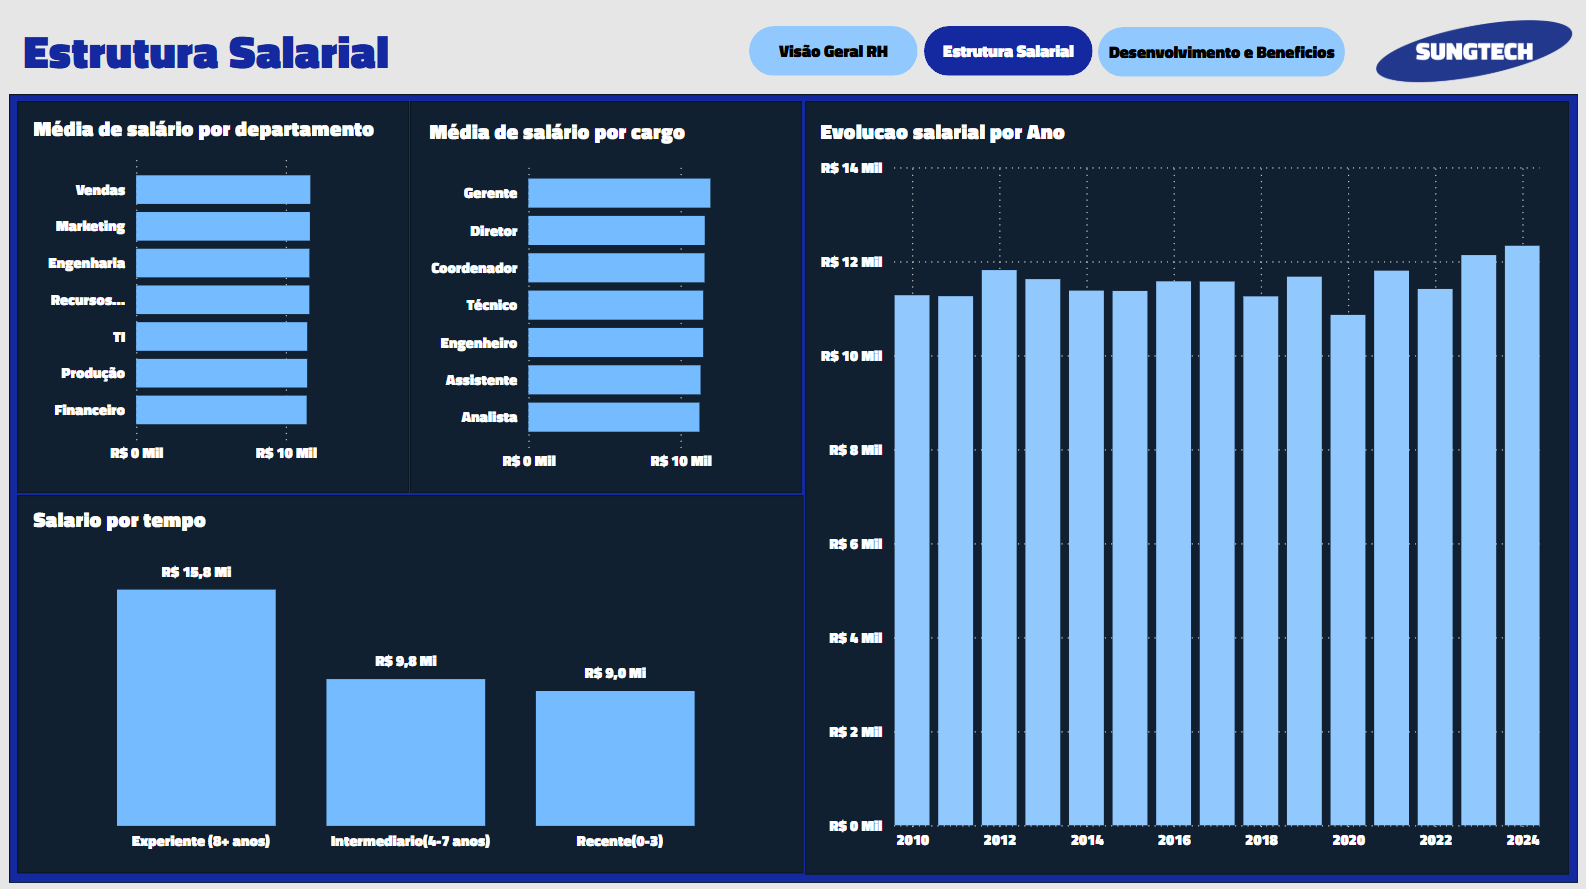

Layout of this report page (visuals, bound fields, positions):
{"tool":"powerbi","page":{"name":"Estrutura Salarial","canvas":[1280,720],"ordinal":1},"visuals":[{"type":"group","id":"g1","title":"Fundo","box":[7.3,8.2,1265.5,704.5],"z":0},{"type":"shape","box":[7.3,76.4,1265.5,636.4],"z":0,"group":"g1"},{"type":"shape","box":[13.4,82.4,316.2,316.2],"z":2000},{"type":"shape","box":[649,82,616,623.7],"z":3000},{"type":"image","title":"Logo","box":[1104.6,8.2,168.2,68.2],"z":4000,"group":"g1"},{"type":"shape","box":[13.4,400,634.3,305],"z":4000},{"type":"clusteredBarChart","title":"Média de salário por departamento","fields":{"Y":["Avg(F_Funcionarios.Salário)"],"Category":["F_Funcionarios.Departamento"]},"box":[22,90.1,298.9,297],"z":5000},{"type":"shape","box":[330.5,82.4,316.2,316.2],"z":6000},{"type":"lineClusteredColumnComboChart","title":"Evolucao salarial por Ano","fields":{"Y":["Avg(F_Funcionarios.Evolução_Salarial)"],"Category":["F_Funcionarios.DataAdmissao.Variation.Hierarquia de datas.Ano"]},"box":[656.3,92.9,590.2,606.5],"z":7000},{"type":"clusteredBarChart","title":"Média de salário por cargo","fields":{"Y":["Avg(F_Funcionarios.Salário)"],"Category":["F_Funcionarios.Cargo"]},"box":[341.1,92.9,298.9,300.8],"z":8000},{"type":"columnChart","title":"Salario por tempo","fields":{"Category":["F_Funcionarios.Tempo_No_Cargo"],"Y":["Sum(F_Funcionarios.Salario_Medio_Tempo_Cargo)"]},"box":[22,405.3,618,294.1],"z":9000},{"type":"group","id":"g2","title":"Botões de Navegação","box":[603.6,22,481,41.2],"z":9500},{"type":"actionButton","title":"Visão geral RH","box":[603.6,22,136,40.2],"z":10000,"group":"g2"},{"type":"textbox","title":"Titulo","box":[13.6,8.5,338,67.8],"z":10001},{"type":"actionButton","title":"Estrutura Salarial","box":[744.4,22,136,40.2],"z":11000,"group":"g2"},{"type":"actionButton","title":"Desenvolvimento e Beneficios","box":[885.3,23,199.3,40.2],"z":12000,"group":"g2"}]}

Visuals, with their boxes in screenshot pixels (x1, y1, x2, y2), scaled from the page's 1280x720 canvas onto the 1586x889 screenshot:
"Fundo" group: {"x1": 9, "y1": 10, "x2": 1577, "y2": 880}
shape: {"x1": 9, "y1": 94, "x2": 1577, "y2": 880}
shape: {"x1": 17, "y1": 102, "x2": 408, "y2": 492}
shape: {"x1": 804, "y1": 101, "x2": 1567, "y2": 871}
"Logo" image: {"x1": 1369, "y1": 10, "x2": 1577, "y2": 94}
shape: {"x1": 17, "y1": 494, "x2": 803, "y2": 870}
"Média de salário por departamento" clusteredBarChart: {"x1": 27, "y1": 111, "x2": 398, "y2": 478}
shape: {"x1": 410, "y1": 102, "x2": 801, "y2": 492}
"Evolucao salarial por Ano" lineClusteredColumnComboChart: {"x1": 813, "y1": 115, "x2": 1544, "y2": 864}
"Média de salário por cargo" clusteredBarChart: {"x1": 423, "y1": 115, "x2": 793, "y2": 486}
"Salario por tempo" columnChart: {"x1": 27, "y1": 500, "x2": 793, "y2": 864}
"Botões de Navegação" group: {"x1": 748, "y1": 27, "x2": 1344, "y2": 78}
"Visão geral RH" actionButton: {"x1": 748, "y1": 27, "x2": 916, "y2": 77}
"Titulo" textbox: {"x1": 17, "y1": 10, "x2": 436, "y2": 94}
"Estrutura Salarial" actionButton: {"x1": 922, "y1": 27, "x2": 1091, "y2": 77}
"Desenvolvimento e Beneficios" actionButton: {"x1": 1097, "y1": 28, "x2": 1344, "y2": 78}
